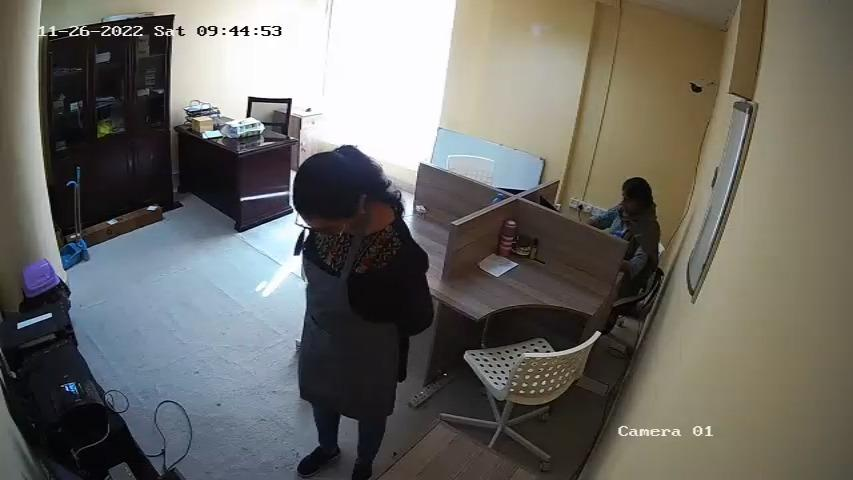apron: (296, 239, 395, 392)
